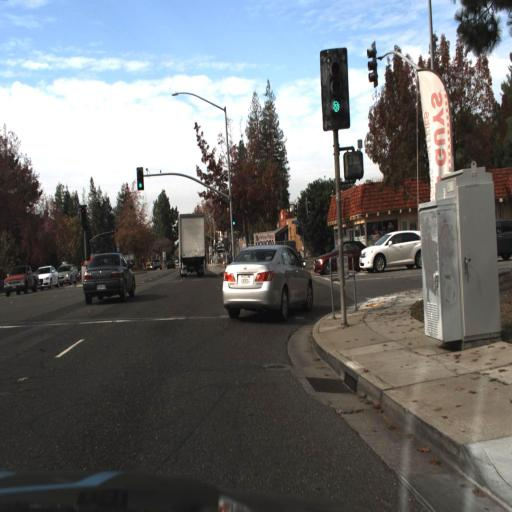car: (216, 236, 321, 339), (221, 240, 315, 324), (74, 240, 138, 312), (356, 226, 427, 274), (315, 239, 369, 275), (4, 257, 39, 303), (492, 209, 510, 276), (31, 257, 59, 294), (54, 254, 78, 293), (163, 248, 180, 272), (149, 250, 164, 271)
trafficLight-Green: (322, 85, 352, 127), (129, 172, 145, 200), (228, 207, 237, 236), (230, 210, 237, 230)
truck: (169, 207, 210, 286)
